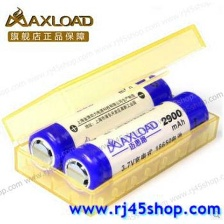battery: (59, 87, 211, 199), (27, 72, 175, 175)
plastic_box: (0, 19, 220, 219)
